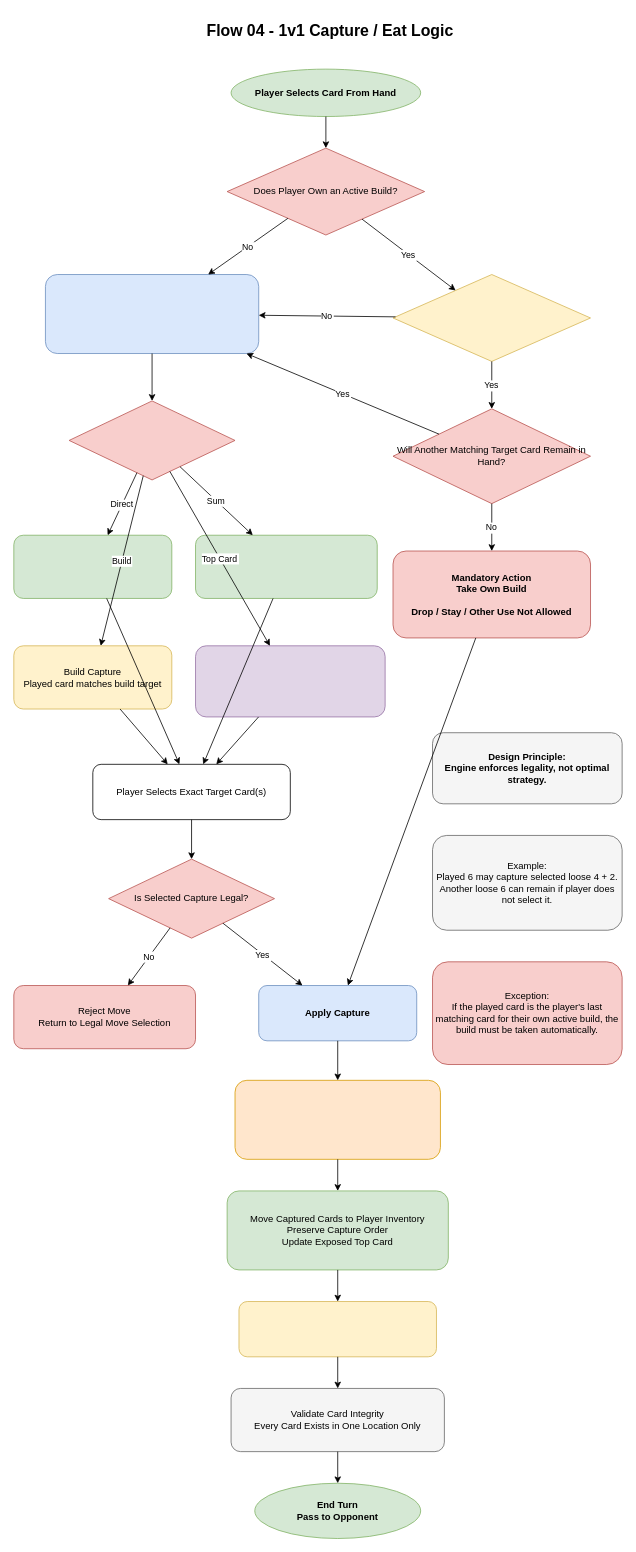
This 636x1552 diagram has some shape labels left out. The box of each missing label's shape, as (x1, y1, x2, y2) in pixels:
Capture ONLY Selected Legal Set Other valid matches/combinations remain on floor: (234, 1080, 440, 1159)
Capture Type?: (68, 400, 235, 480)
Combination Capture Selected loose cards sum to played value: (195, 534, 377, 598)
Direct Match Played X takes loose X: (13, 534, 172, 598)
Does Played Card Match Own Build Target?: (392, 274, 591, 361)
Exposed Top Card Participates Only when legal under current capture/build rules: (195, 645, 385, 717)
Player May Choose a Legal Action Engine Does Not Choose Best Strategy: (45, 274, 259, 354)
Set lastCapturePlayer = Current Player: (238, 1301, 436, 1357)
